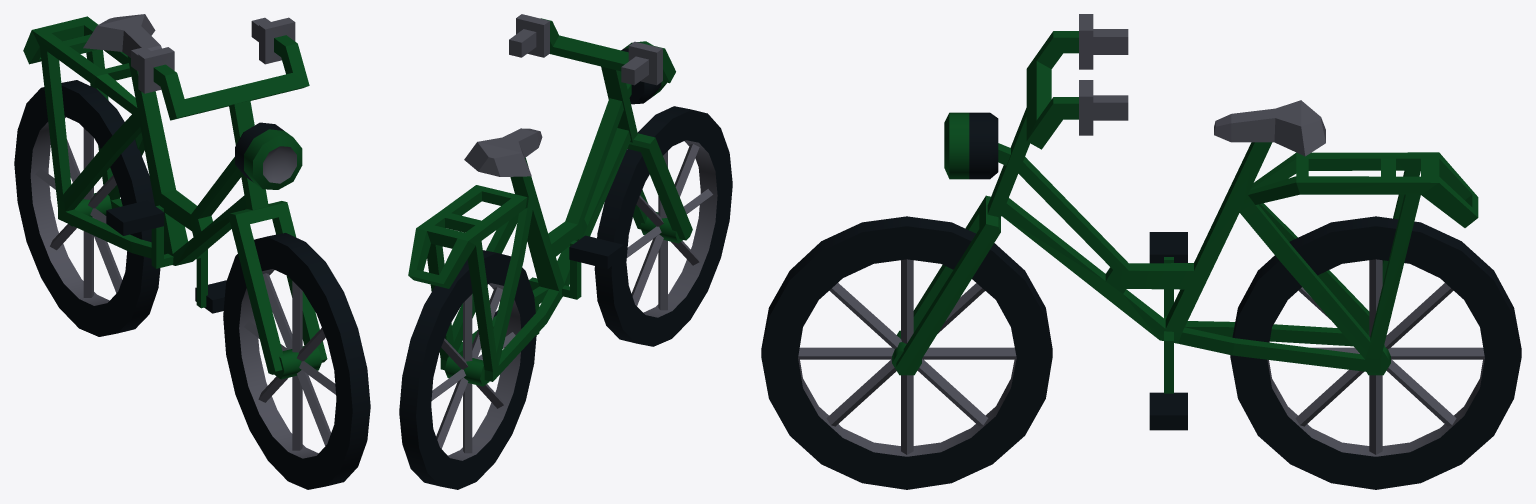
The model's file is Bicycle_1.fbx.
3 renders of one model, left to right at view 1: azimuth 30°, elevation 25°; view 2: azimuth 150°, elevation 25°; view 3: azimuth 270°, elevation 25°, orthographic. The views are drawn at different scales.
Parts seen in each view (by area): view 1: Bicycle_1; view 2: Bicycle_1; view 3: Bicycle_1.
Part boxes in pixels (box(x1,y1,x2,y2)): Bicycle_1: box(14, 14, 370, 489); Bicycle_1: box(399, 14, 732, 489); Bicycle_1: box(761, 14, 1521, 489).
Size of the model in its own units: 22.26 by 53.99 by 86.57.
